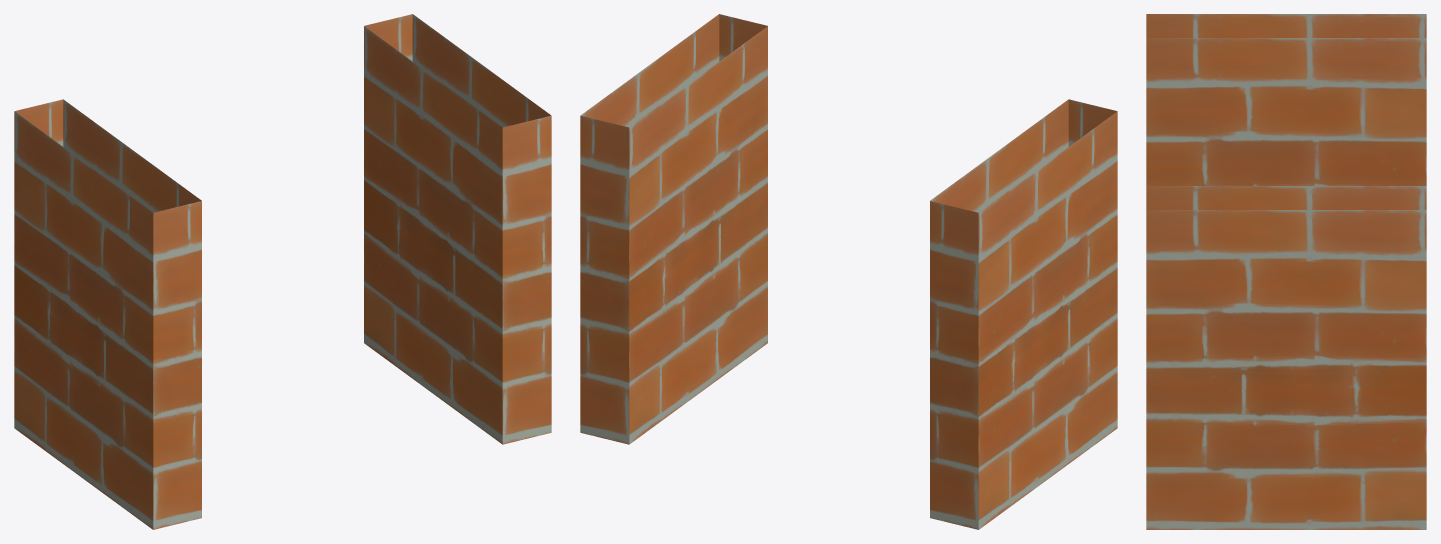
File: Stone_Sink_Support_01.fbx
3 views of the same model, side by side, from view 1: azimuth 30°, elevation 25°; view 2: azimuth 150°, elevation 25°; view 3: azimuth 270°, elevation 25° (orthographic).
Parts seen in each view (by area): view 1: Stone_Sink_Support_01; view 2: Stone_Sink_Support_01; view 3: Stone_Sink_Support_01.
Boxes of the visible parts, left/top/right/bottom form: Stone_Sink_Support_01: left=14, top=14, right=551, bottom=529; Stone_Sink_Support_01: left=580, top=14, right=1117, bottom=529; Stone_Sink_Support_01: left=1146, top=14, right=1426, bottom=529.
Size of the model in its own units: 124 by 94 by 74.59.
